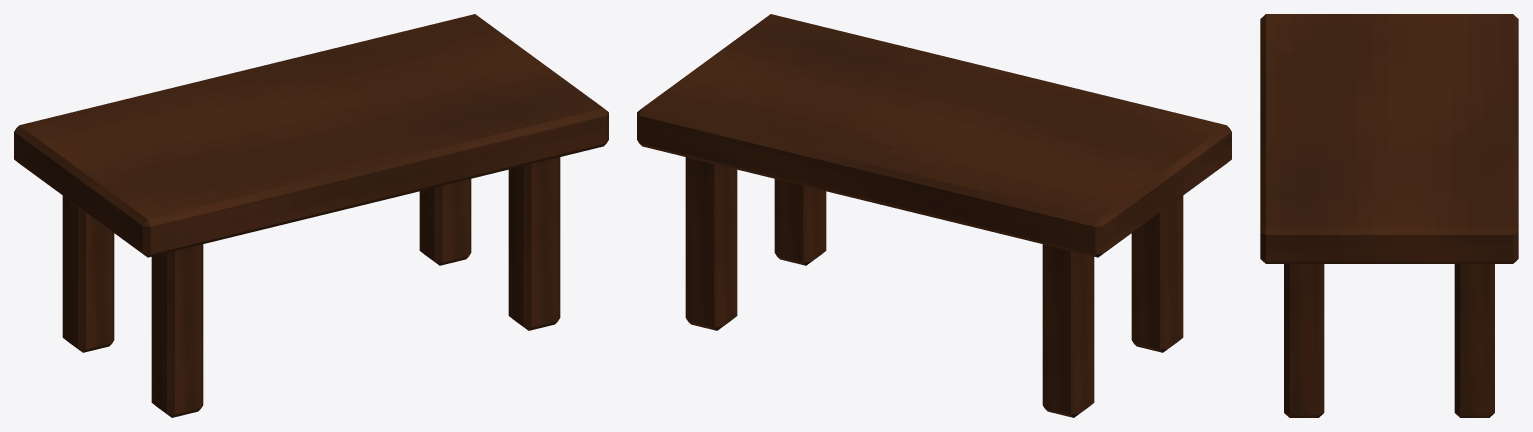
Rendered from WoodTable.glb.
The picture shows the model from 3 angles, left to right: view 1: azimuth 30°, elevation 25°; view 2: azimuth 150°, elevation 25°; view 3: azimuth 270°, elevation 25°; orthographic projection. The views are drawn at different scales.
Parts seen in each view (by area): view 1: TableTop, Leg-0.88_-0.38, Leg0.88_-0.38, Leg-0.88_0.38, Leg0.88_0.38; view 2: TableTop, Leg-0.88_0.38, Leg0.88_0.38, Leg-0.88_-0.38, Leg0.88_-0.38; view 3: TableTop, Leg0.88_0.38, Leg0.88_-0.38.
Boxes of the visible parts, box(x1,y1,x2,y2) form: TableTop: box(14, 14, 608, 257); Leg-0.88_-0.38: box(151, 244, 203, 417); Leg0.88_-0.38: box(508, 157, 560, 330); Leg-0.88_0.38: box(62, 195, 114, 352); Leg0.88_0.38: box(419, 179, 471, 265); TableTop: box(637, 14, 1231, 257); Leg-0.88_0.38: box(1042, 244, 1094, 417); Leg0.88_0.38: box(685, 157, 737, 330); Leg-0.88_-0.38: box(1131, 195, 1183, 352); Leg0.88_-0.38: box(774, 179, 826, 265); TableTop: box(1260, 14, 1518, 263); Leg0.88_0.38: box(1454, 264, 1494, 417); Leg0.88_-0.38: box(1284, 264, 1324, 417).
Bounding box in the file's own units: 2.3 × 1.02 × 1.15.
1 material, 1 textured.
